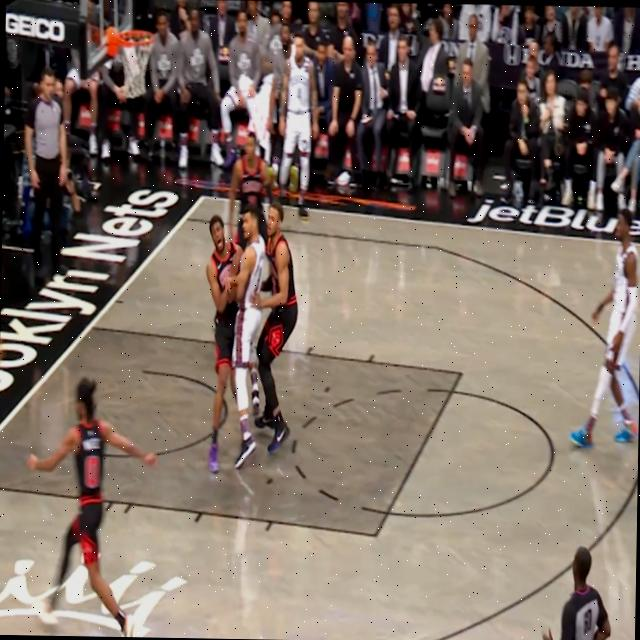Foul: (200, 208, 263, 474)
